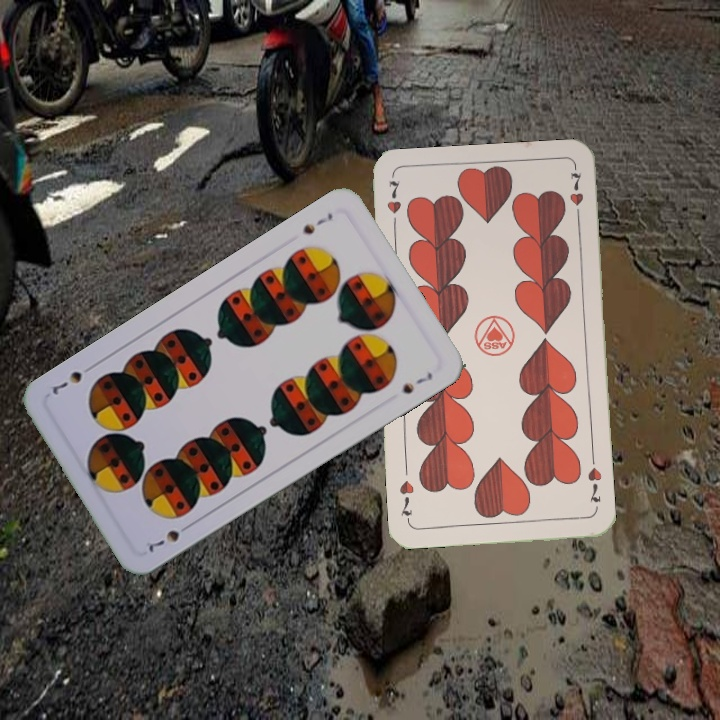H7: (382, 177, 404, 233), (583, 464, 604, 505)
S7: (144, 519, 195, 555), (299, 208, 336, 238)
